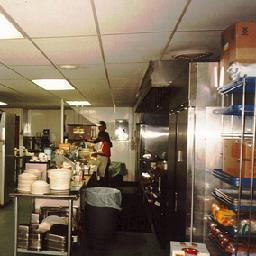Bote de Basura: (85, 189, 123, 242)
Electrodomestico: (166, 61, 218, 241)
